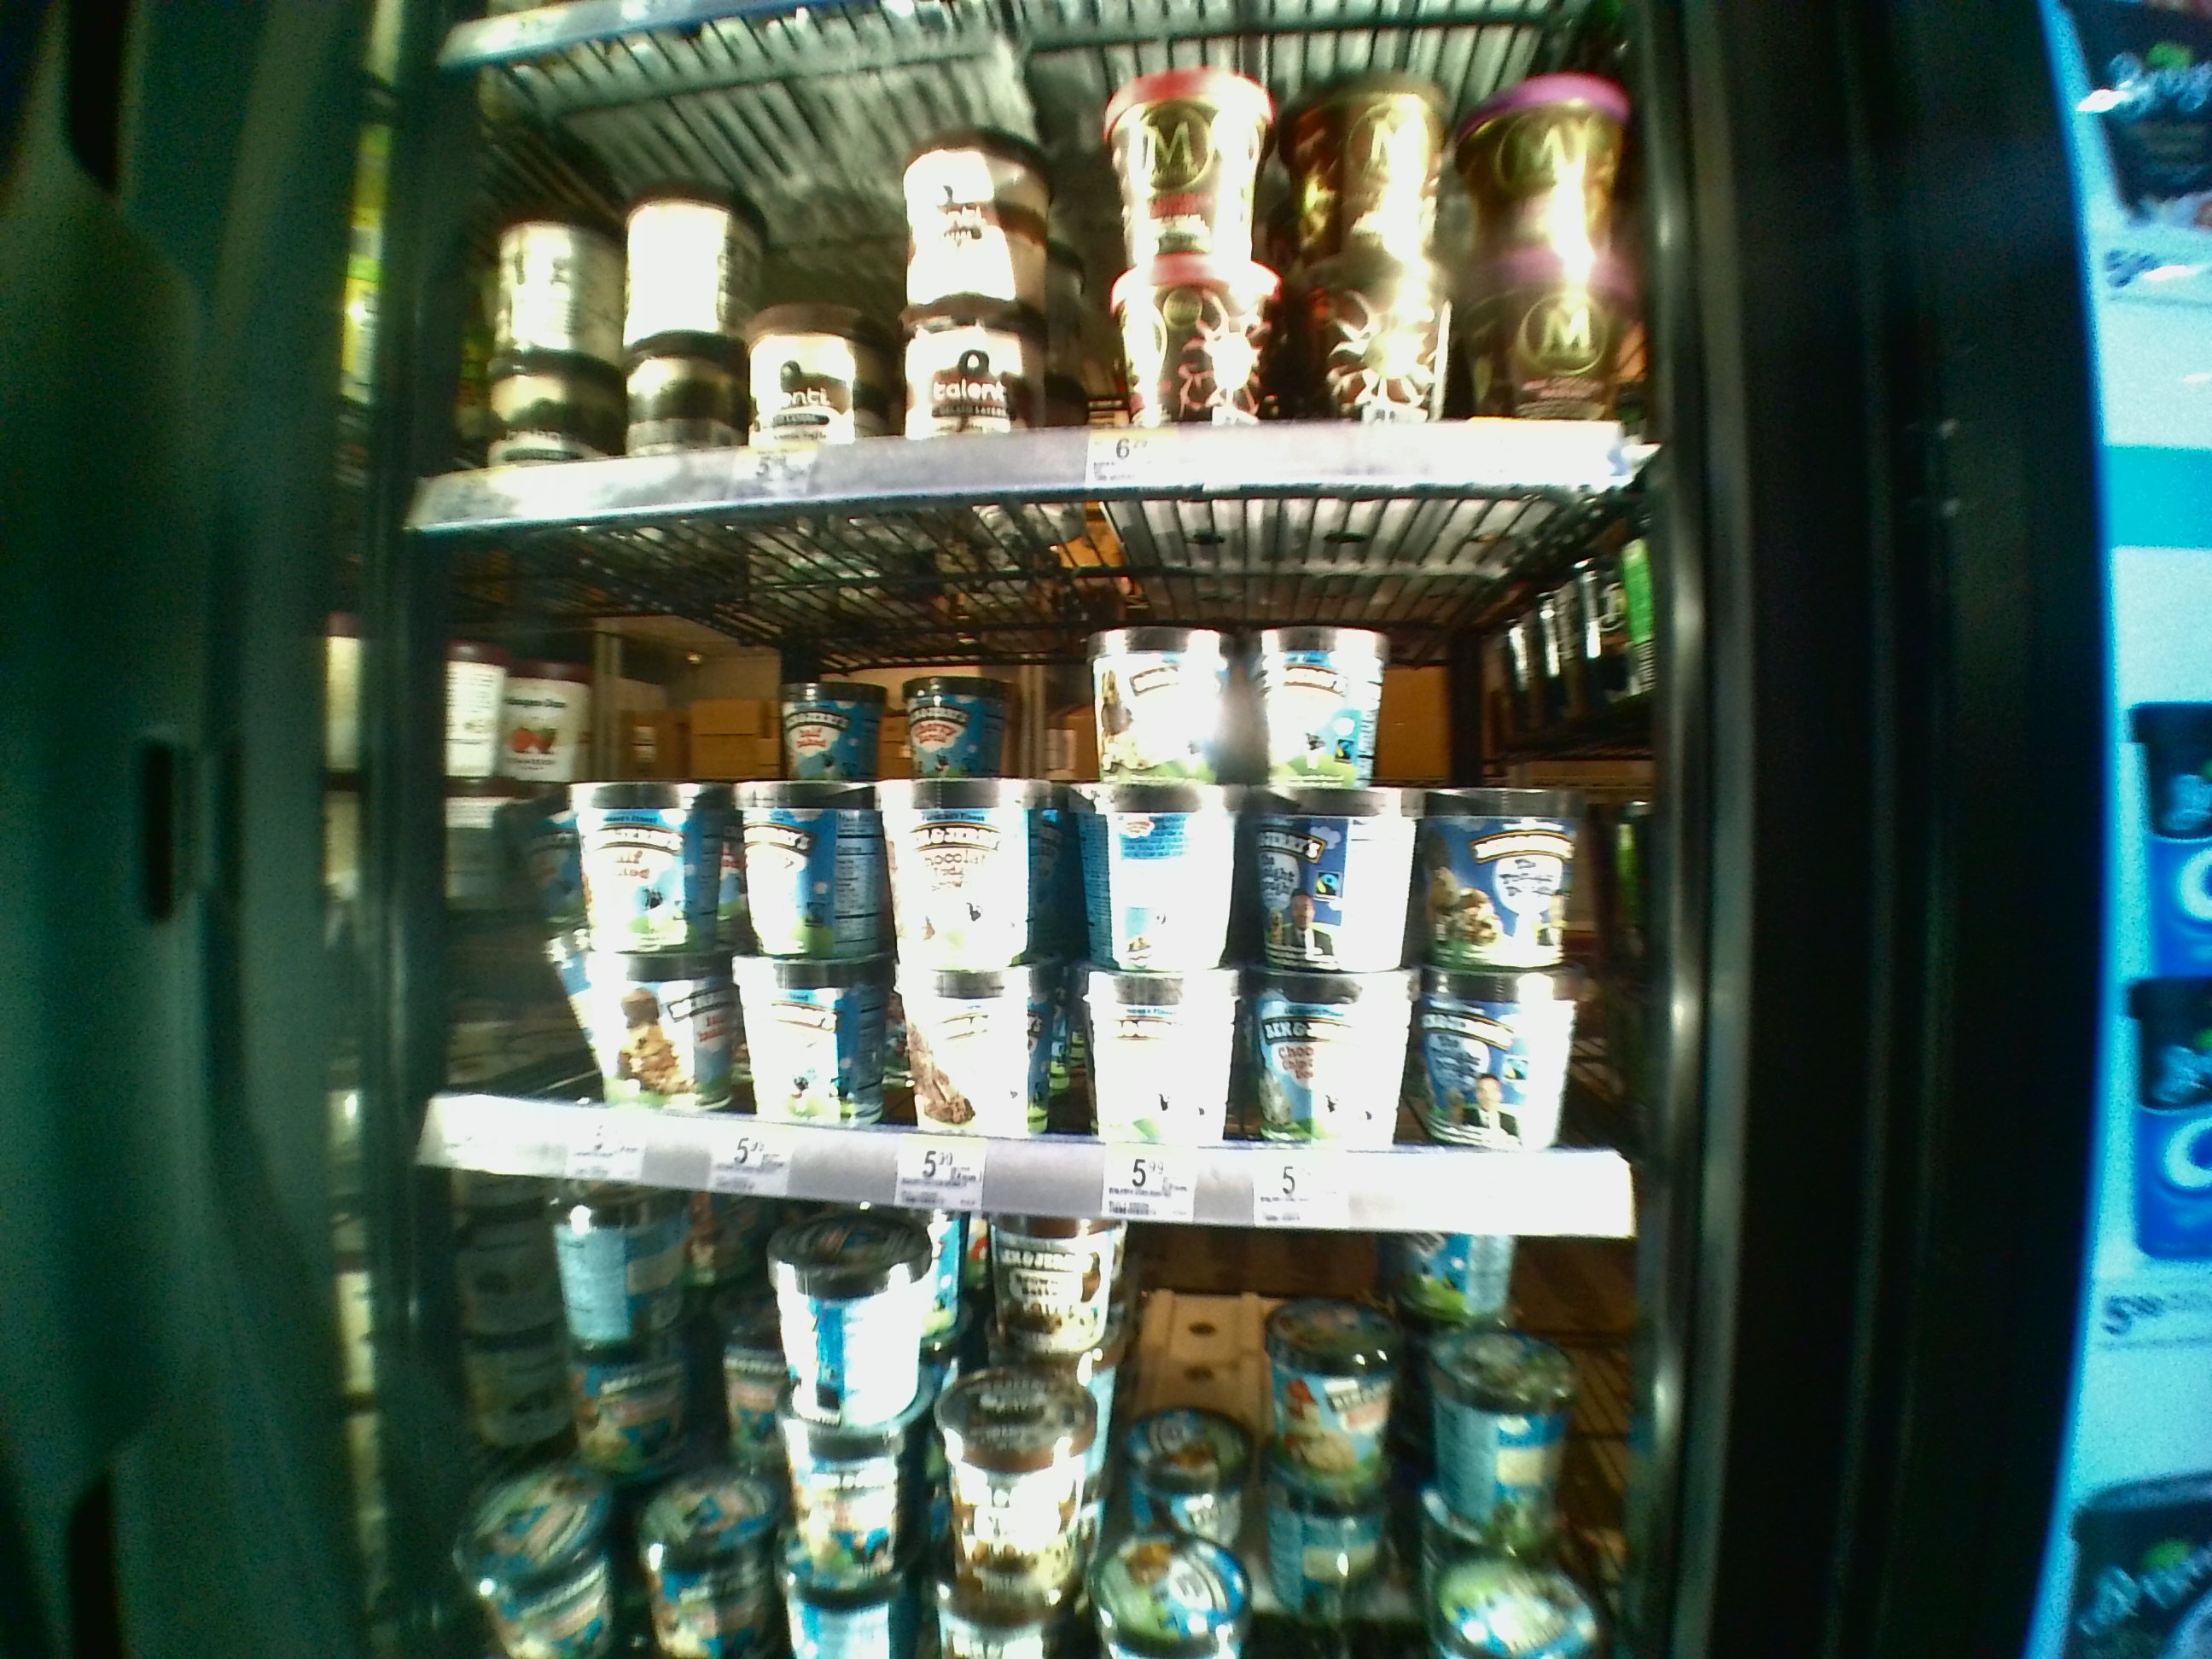shelf: (406, 532, 1641, 1223)
